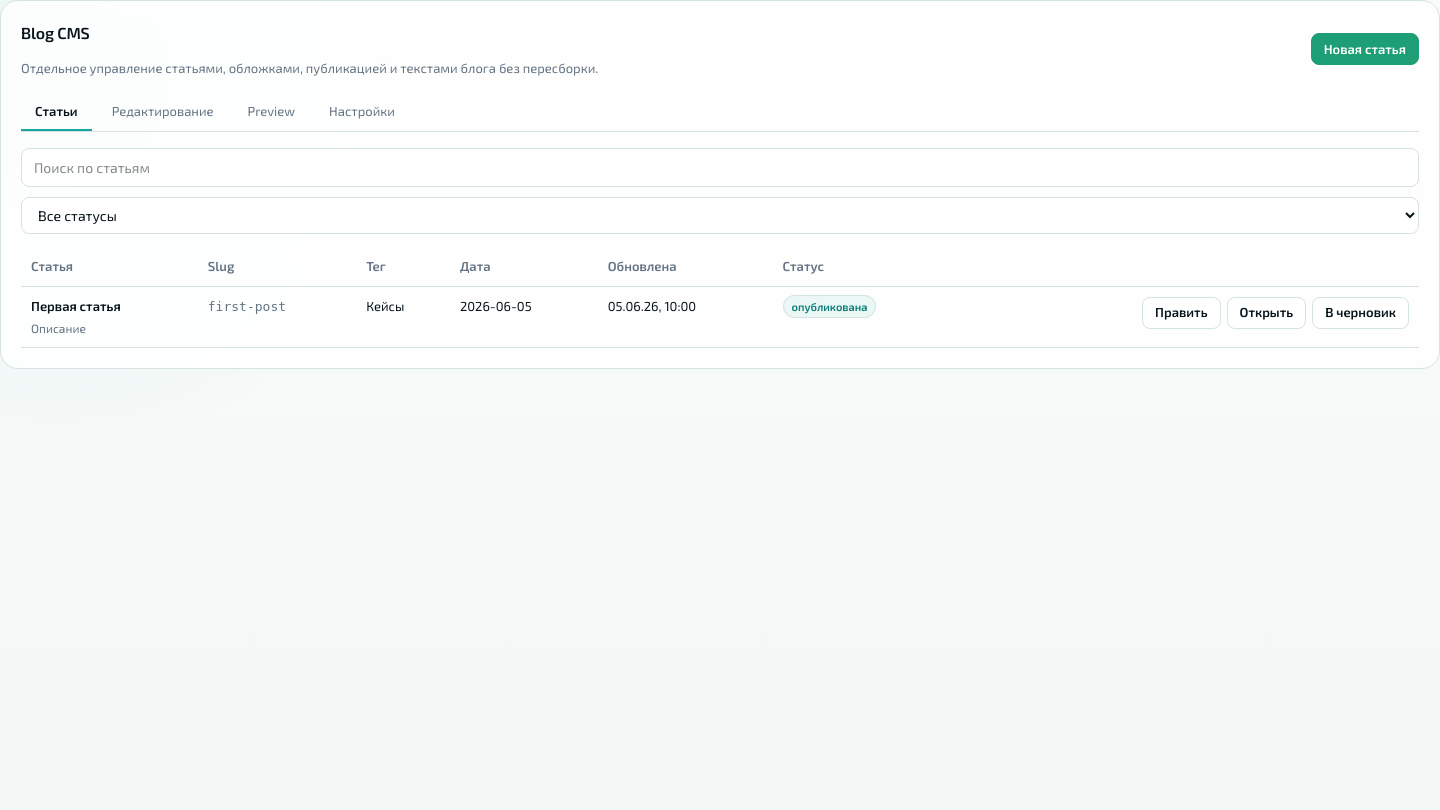
Test case: AdminBlogCmsTab › показывает список постов и открывает редактор
The width and height of the screenshot is (1440, 810).
expect the heading "Blog CMS" is shown: met, box [21, 23, 90, 42]
expect the button "Первая статья" is shown: met, box [31, 297, 121, 316]
Step 1. Click the button "Править" → (1181, 313), box [1142, 297, 1220, 329]
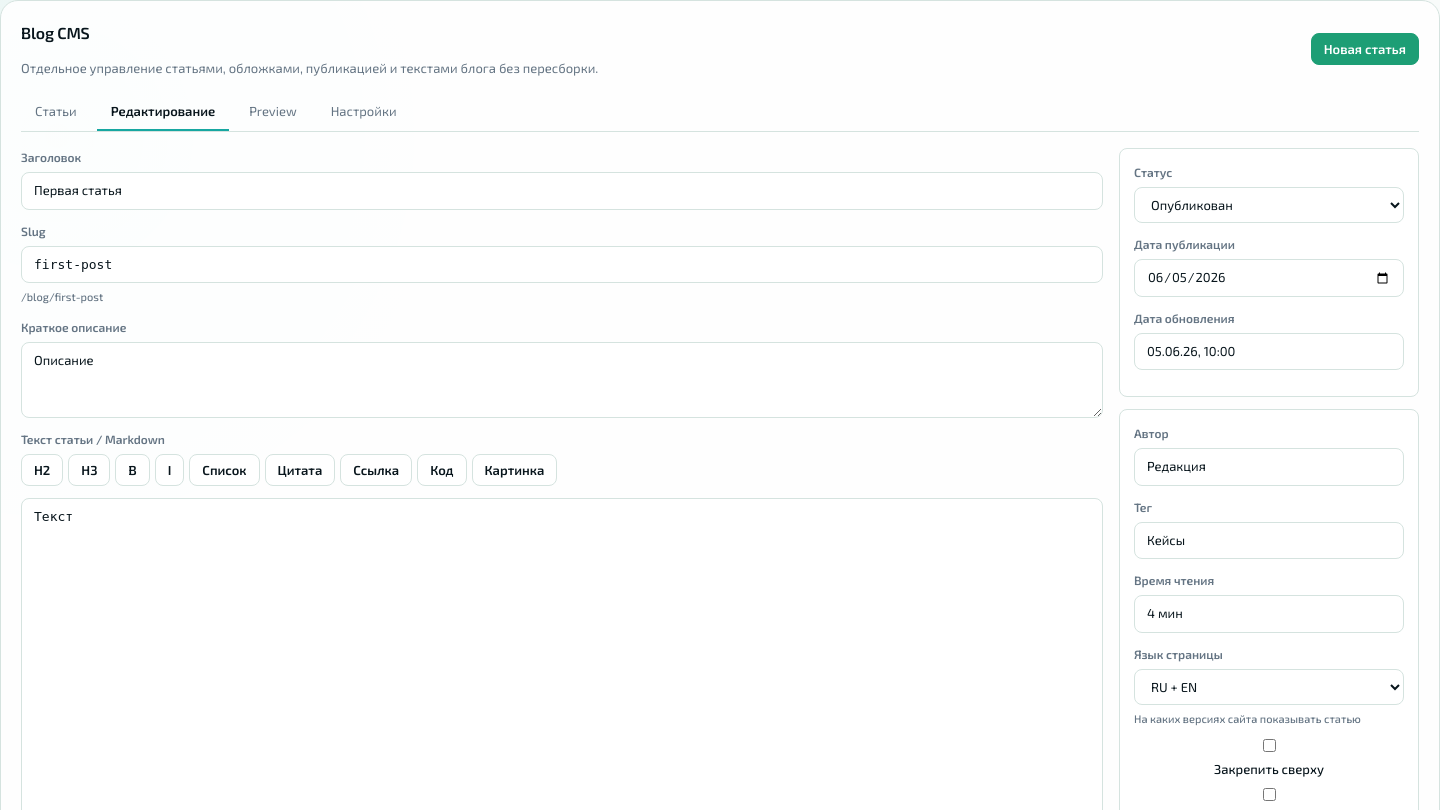
expect the field showing "first-post" is shown: met, box [21, 246, 1103, 283]
expect the field showing "Первая статья" is shown: met, box [21, 172, 1103, 210]
